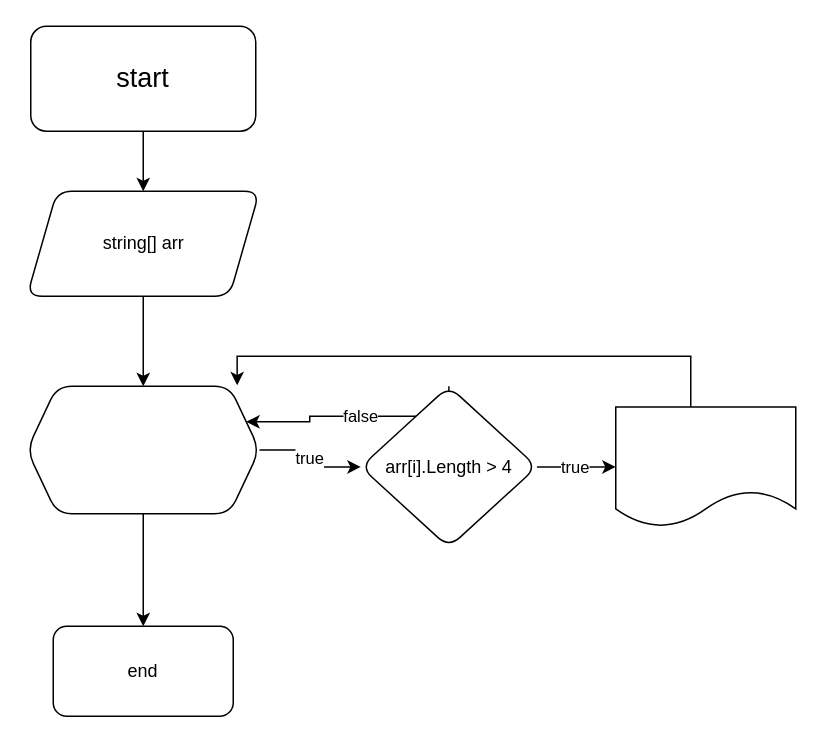
Some shapes in this 822 by 743 pixel diagram are drawn without their labels. The shapes that lost their labels are listed below. From the top down, each one's centre as x and y in pixels, then its label:
(x=143, y=449): int i = 0; i < arr.Length; i++
(x=705, y=466): arr[i]
